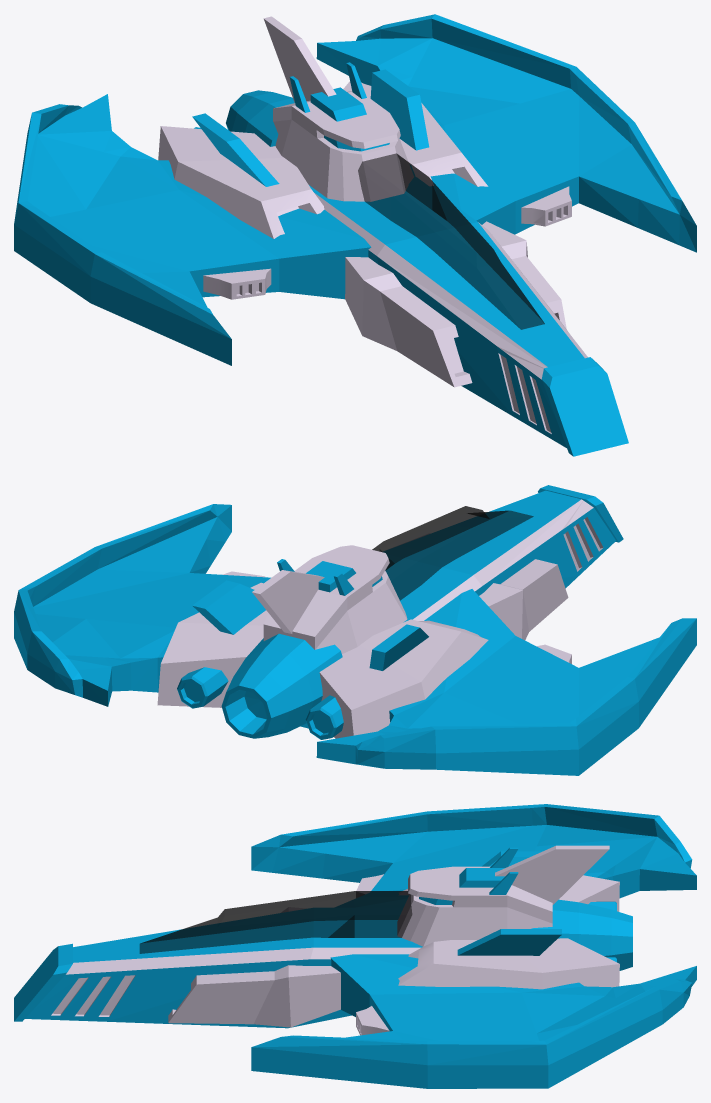
Rendered from wuwuwu.fbx.
The picture shows the model from 3 angles, top to bottom: view 1: azimuth 30°, elevation 25°; view 2: azimuth 150°, elevation 25°; view 3: azimuth 270°, elevation 25°; orthographic projection. The views are drawn at different scales.
Parts seen in each view (by area): view 1: pCube9 (×2), pCube1, pCube10 (×2), pCube3, pCube2, pCube16, pasted__pCube1, pCube11 (×2), pCube12 (×2), pCube15, pCylinder1, pCube13 (+1 smaller); view 2: pCube9 (×2), pCube1, pCube10 (×2), pCylinder1, pCube3, pCube2, pCube16, pCube11 (×2), pCube15, pCylinder2, pCylinder3, pasted__pCube1 (+1 smaller); view 3: pCube9 (×2), pCube1, pCube2, pCube10 (×2), pCube13, pCube3, pCylinder1, pCube15, pCube11, pasted__pCube1, pCube8, pCube12.
Part boxes in pixels (box(x1,y1,x2,y2)): pCube9 (×2): box(14, 14, 696, 365); pCube1: box(309, 176, 587, 447); pCube10 (×2): box(158, 81, 488, 238); pCube3: box(273, 91, 413, 201); pCube2: box(358, 153, 544, 329); pCube16: box(345, 257, 472, 387); pasted__pCube1: box(541, 357, 628, 456); pCube11 (×2): box(192, 69, 429, 186); pCube12 (×2): box(203, 186, 571, 299); pCube15: box(263, 16, 336, 102); pCylinder1: box(226, 90, 294, 146); pCube13: box(482, 221, 566, 329); pCube9 (×2): box(14, 504, 696, 775); pCube1: box(300, 490, 615, 728); pCube10 (×2): box(157, 582, 488, 738); pCylinder1: box(221, 633, 342, 738); pCube3: box(263, 545, 407, 653); pCube2: box(372, 506, 533, 600); pCube16: box(479, 559, 568, 640); pCube11 (×2): box(192, 580, 428, 670); pCube15: box(252, 570, 324, 633); pCylinder2: box(177, 667, 228, 708); pCylinder3: box(305, 695, 343, 739); pasted__pCube1: box(538, 485, 623, 542); pCube9 (×2): box(251, 804, 696, 1088); pCube1: box(25, 908, 422, 1028); pCube2: box(139, 891, 412, 953); pCube10 (×2): box(398, 875, 619, 989); pCube13: box(168, 965, 340, 1027); pCube3: box(397, 866, 552, 946); pCylinder1: box(531, 899, 632, 970); pCube15: box(495, 845, 609, 904); pCube11: box(457, 929, 561, 955); pasted__pCube1: box(14, 943, 72, 1021); pCube8: box(459, 868, 504, 887); pCube12: box(356, 1006, 389, 1035).
Bounding box in the file's own units: 30.85 × 9.66 × 36.54.
